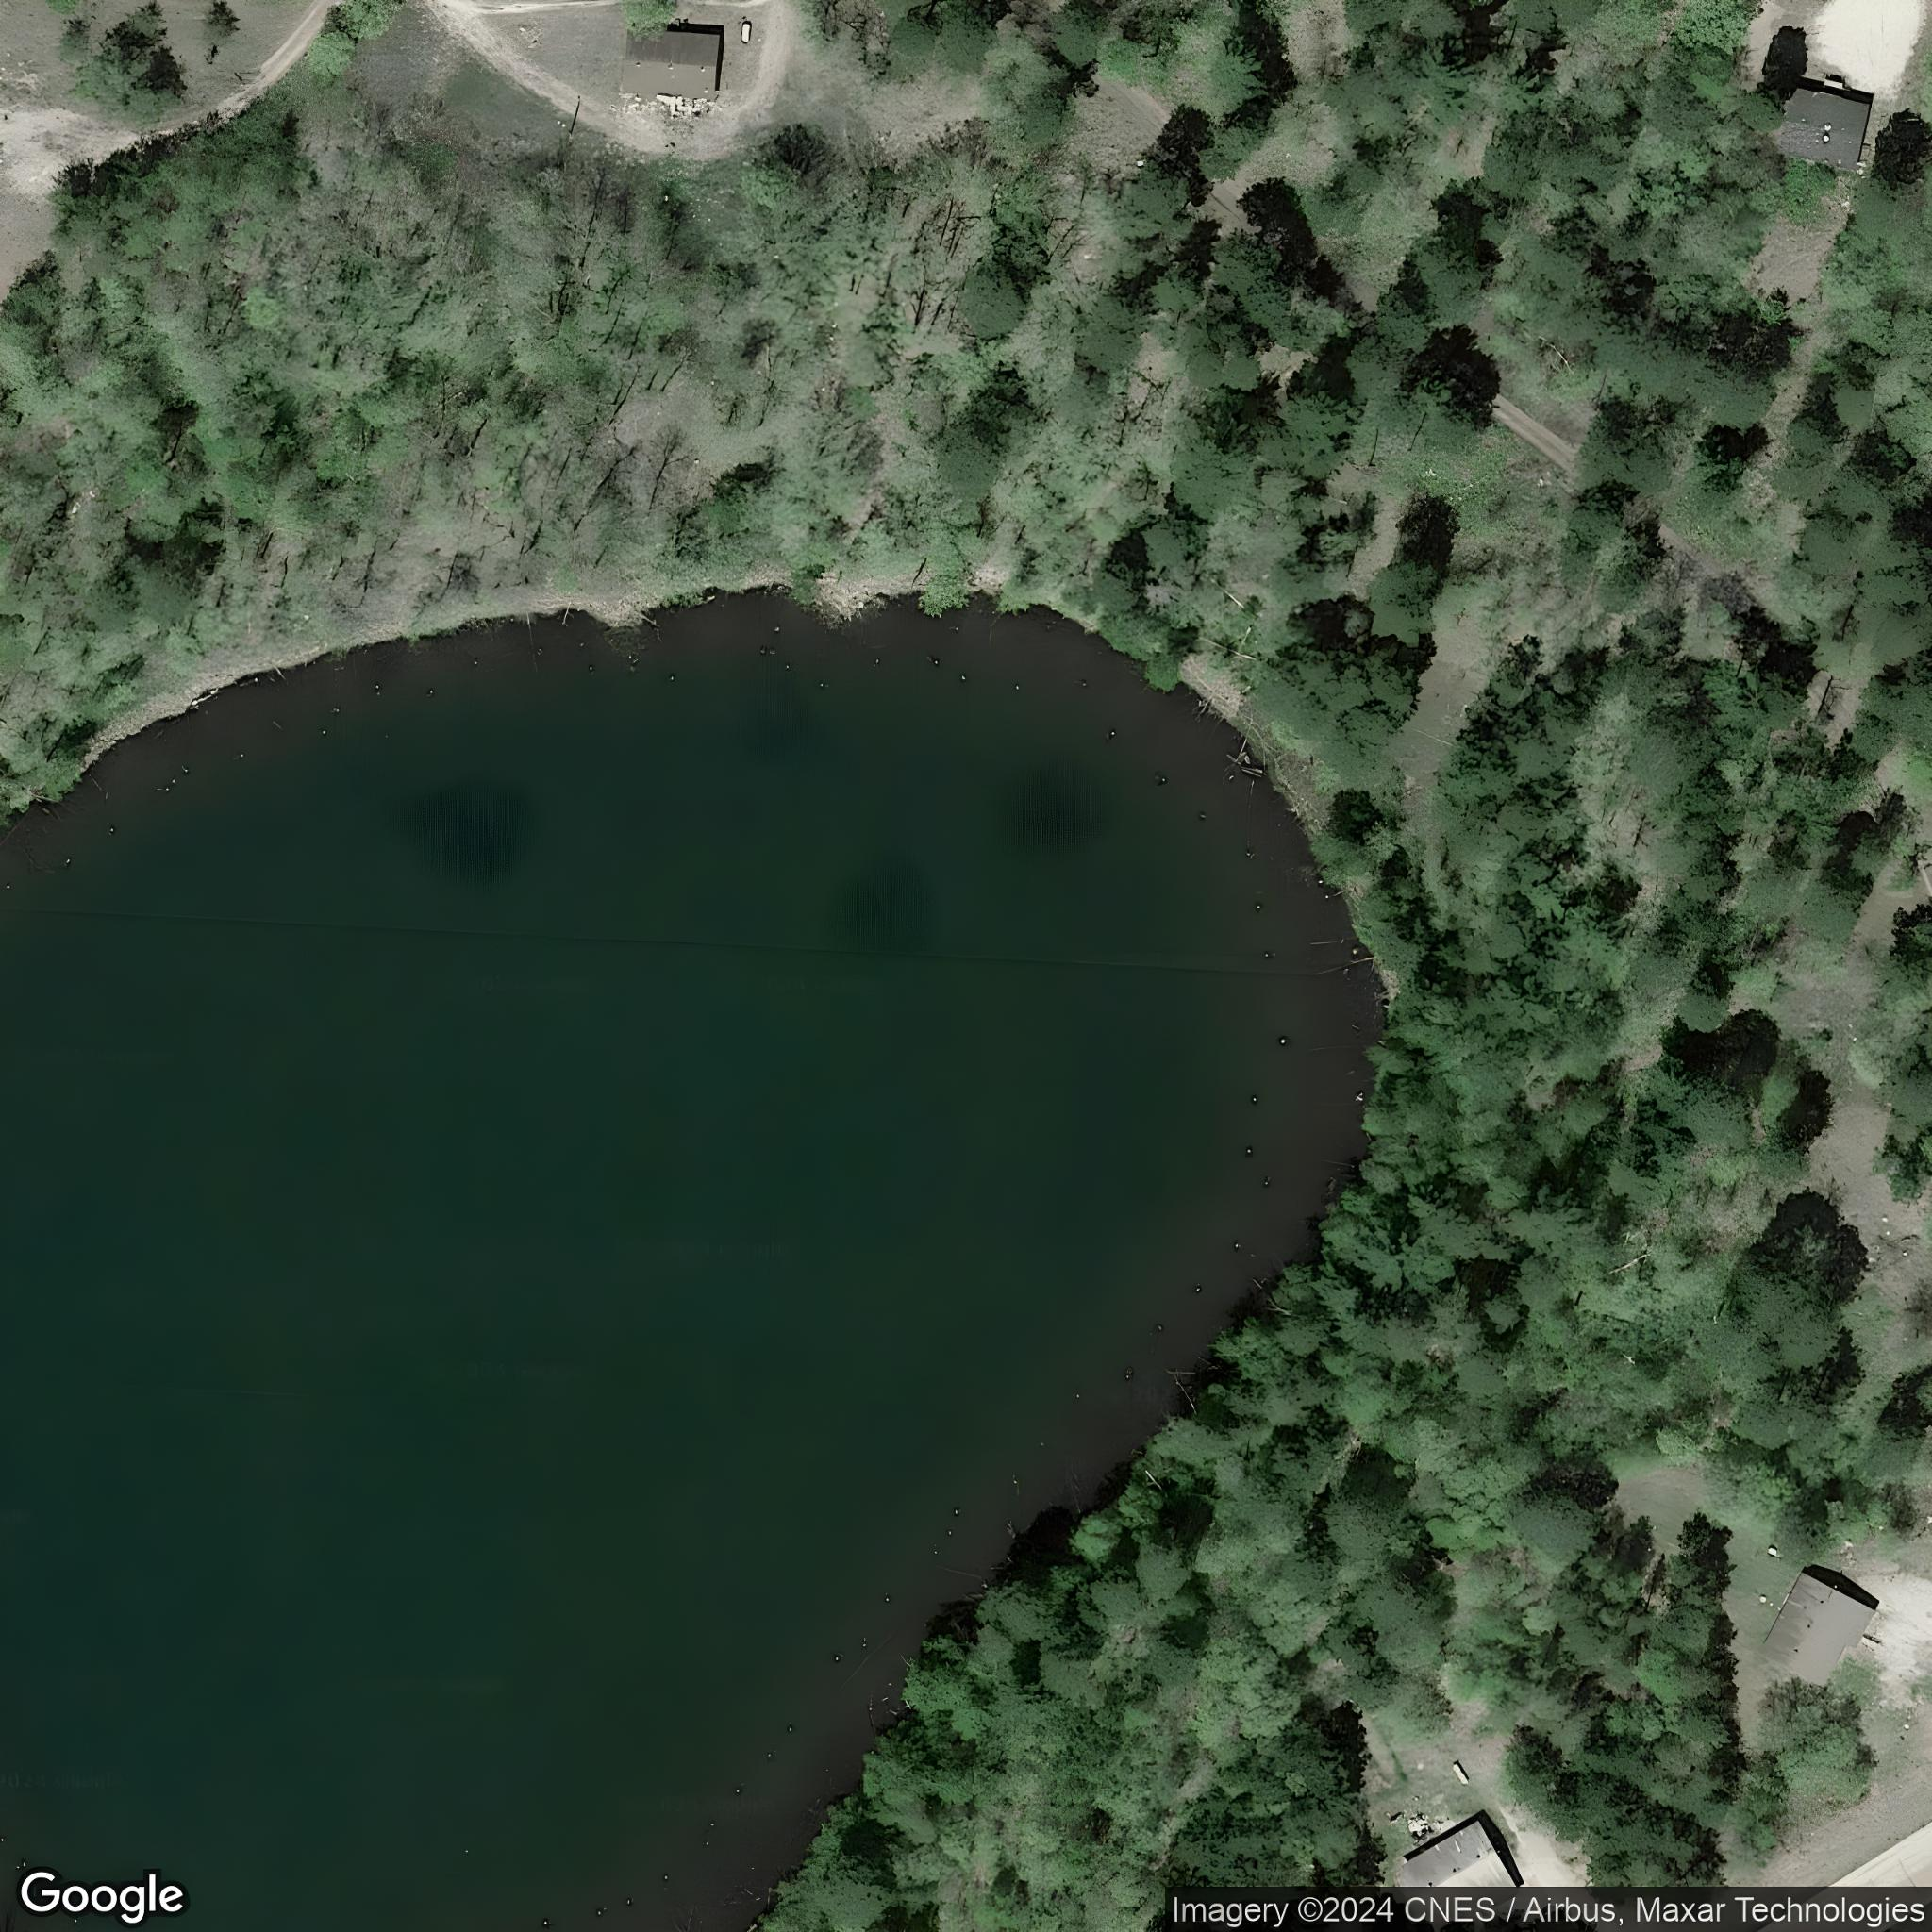House: (1759, 1568, 1877, 1688), (1775, 85, 1872, 179), (1398, 1817, 1520, 1886), (619, 28, 724, 99)
Propane: (1449, 1759, 1474, 1789), (741, 19, 752, 46)
